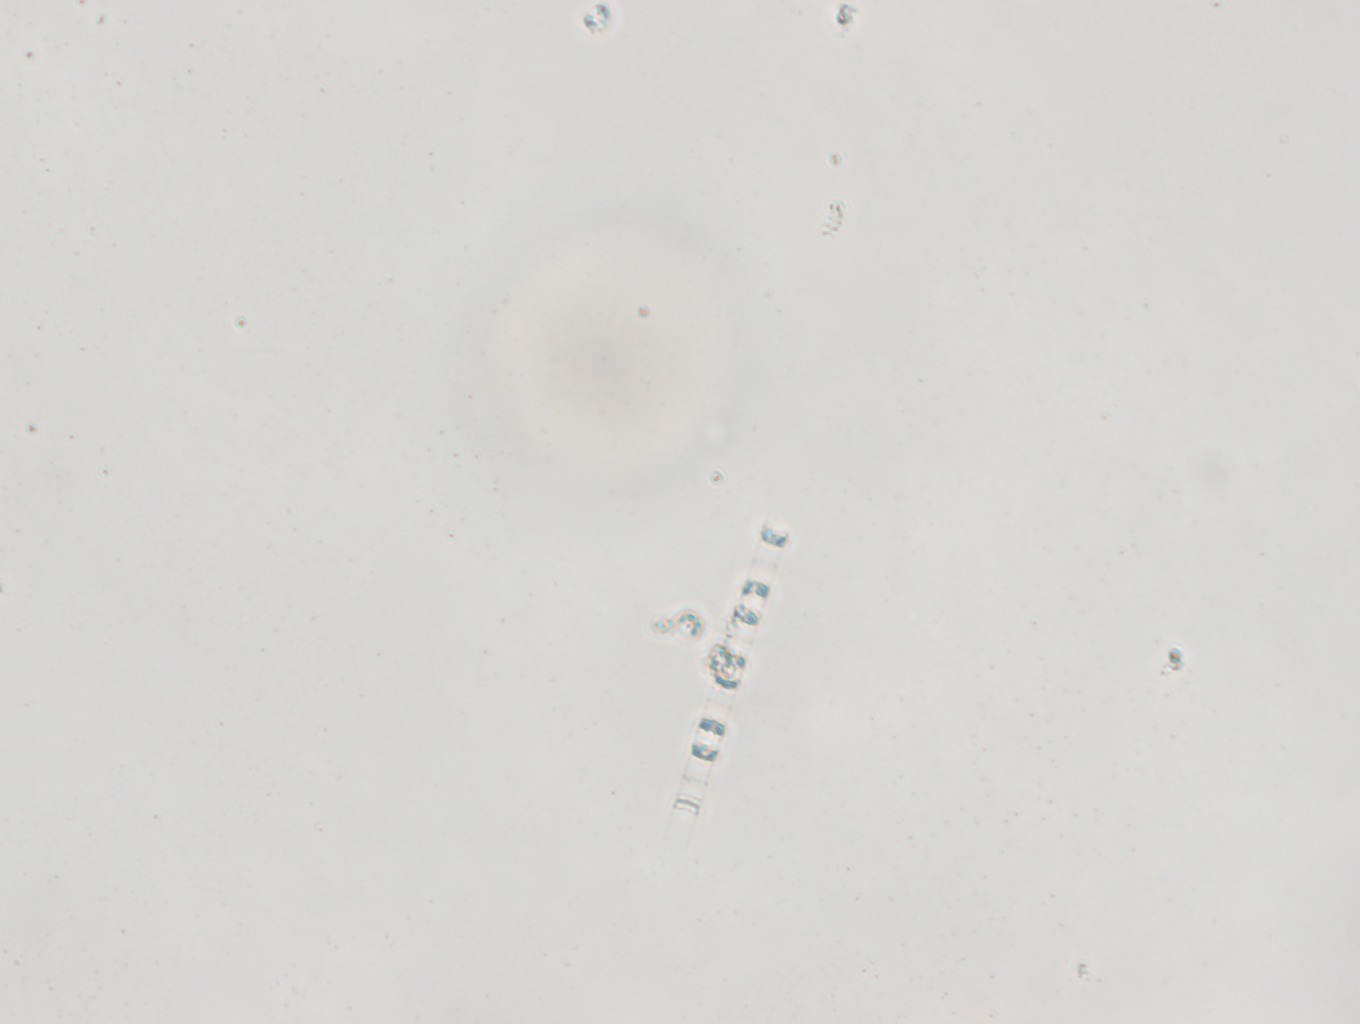skeletonema: (665, 501, 802, 828)
